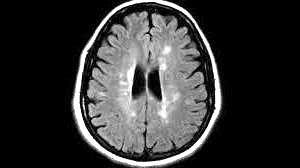Normal_Brain: (1, 3, 300, 168)
